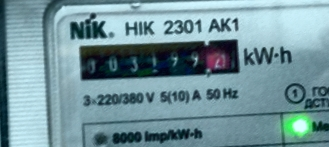0: (82, 54, 98, 75), (105, 52, 119, 72)
1: (147, 47, 159, 67)
3: (127, 53, 138, 73)
6: (211, 55, 223, 72)
9: (167, 48, 179, 67), (188, 49, 200, 68)
screen: (69, 17, 249, 103)
